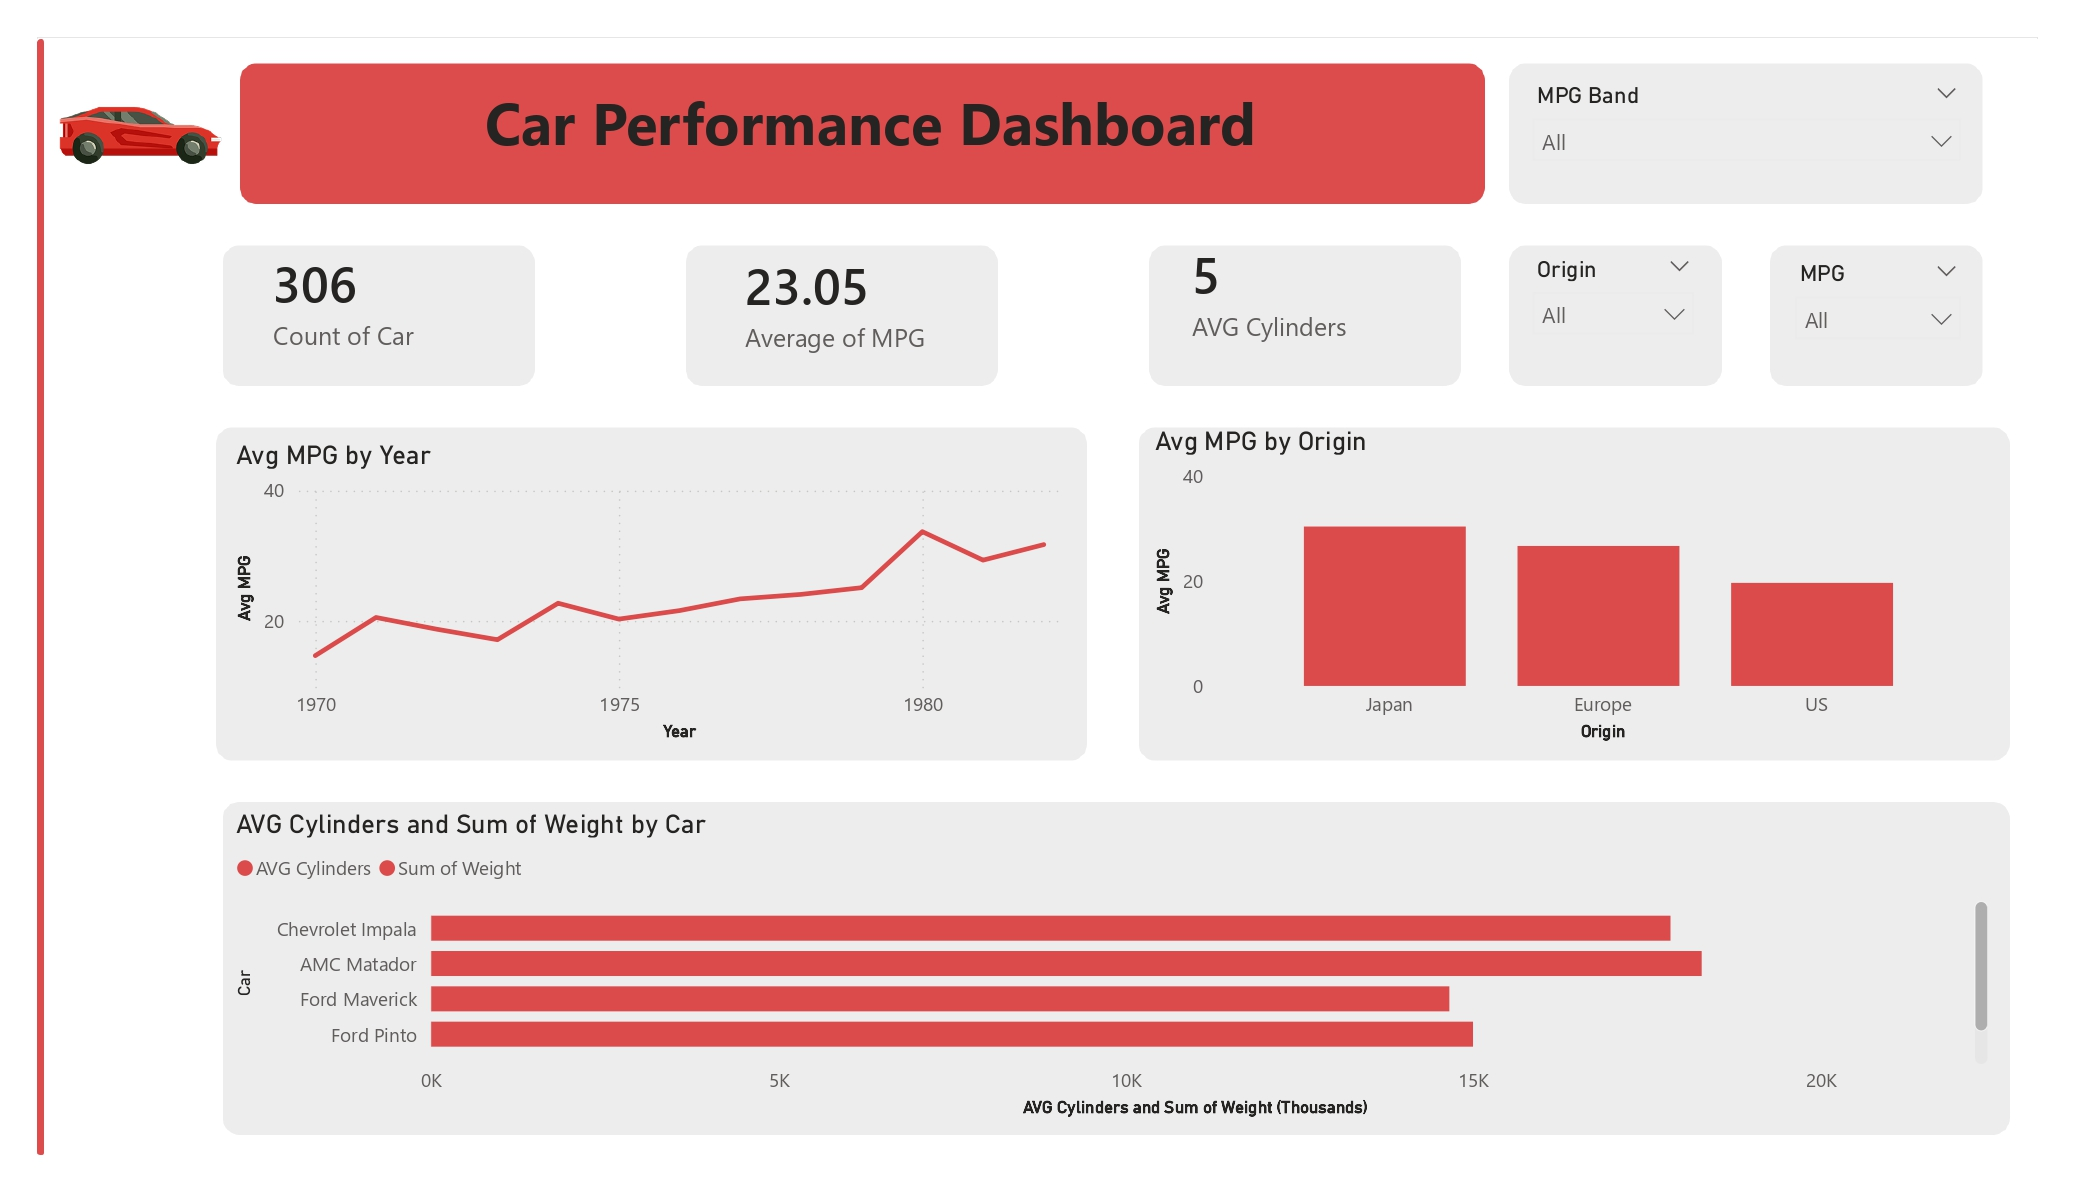

The dashboard page shown, as its layout file describes it:
{"tool":"powerbi","page":{"name":"Page 1","canvas":[1280,720],"ordinal":0},"visuals":[{"type":"textbox","box":[157.2,24.4,751.9,69.1],"z":0},{"type":"cardVisual","fields":{"Data":["Count(in.Car)"]},"box":[121.9,115.2,195.1,107],"z":1000},{"type":"cardVisual","fields":{"Data":["Avg(in.MPG)"]},"box":[424,116.5,184.3,105.7],"z":2000},{"type":"cardVisual","fields":{"Data":["in.Measure"]},"box":[709.9,104.3,199.2,117.9],"z":3000},{"type":"lineChart","fields":{"Category":["in.Year"],"Y":["in.Avg MPG"]},"box":[121.9,257.4,540.6,197.8],"z":4000},{"type":"columnChart","fields":{"Category":["in.Origin"],"Y":["in.Avg MPG"]},"box":[709.9,247.9,543.3,207.3],"z":5000},{"type":"barChart","fields":{"Category":["in.Car"],"Y":["in.AVG Cylinders","Sum(in.Weight)"]},"box":[121.9,493.1,1131.2,203.2],"z":6000},{"type":"slicer","fields":{"Values":["in.Origin"]},"box":[947,135.5,123.3,75.9],"z":7000},{"type":"slicer","fields":{"Values":["in.MPG"]},"box":[1115,138.2,126,73.2],"z":8000},{"type":"slicer","fields":{"Values":["in.MPG Band"]},"box":[947,24.4,294,69.1],"z":9000}]}

Visuals, with their boxes on the page's 1280x720 design canvas (x1, y1, x2, y2). These are canvas units, not pixel positions in the 2075x1200 screenshot, which may show the page scaled, cropped or inside an application window:
textbox: detection(157, 24, 909, 94)
cardVisual - Count(in.Car): detection(122, 115, 317, 222)
cardVisual - Avg(in.MPG): detection(424, 116, 608, 222)
cardVisual - in.Measure: detection(710, 104, 909, 222)
lineChart - in.Year x in.Avg MPG: detection(122, 257, 662, 455)
columnChart - in.Origin x in.Avg MPG: detection(710, 248, 1253, 455)
barChart - in.Car x in.AVG Cylinders: detection(122, 493, 1253, 696)
slicer - in.Origin: detection(947, 136, 1070, 211)
slicer - in.MPG: detection(1115, 138, 1241, 211)
slicer - in.MPG Band: detection(947, 24, 1241, 94)
